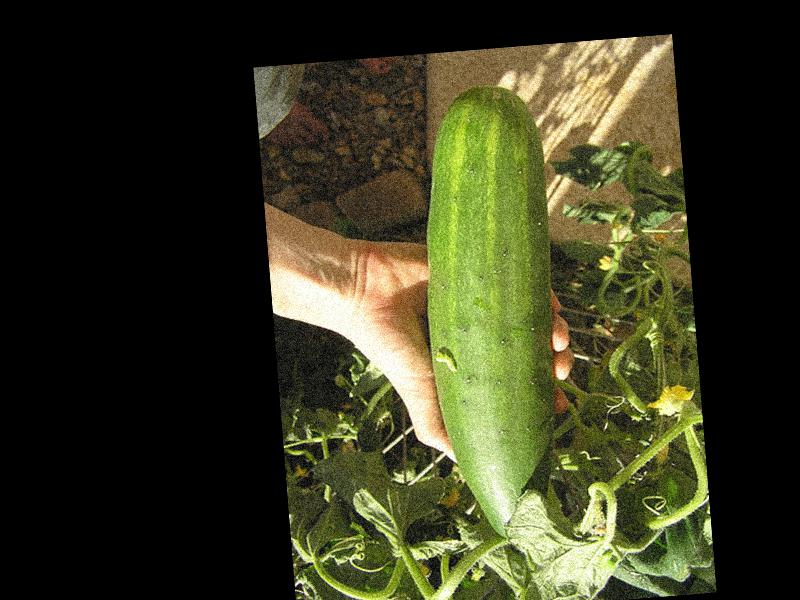Cucumber: (410, 81, 575, 548)
